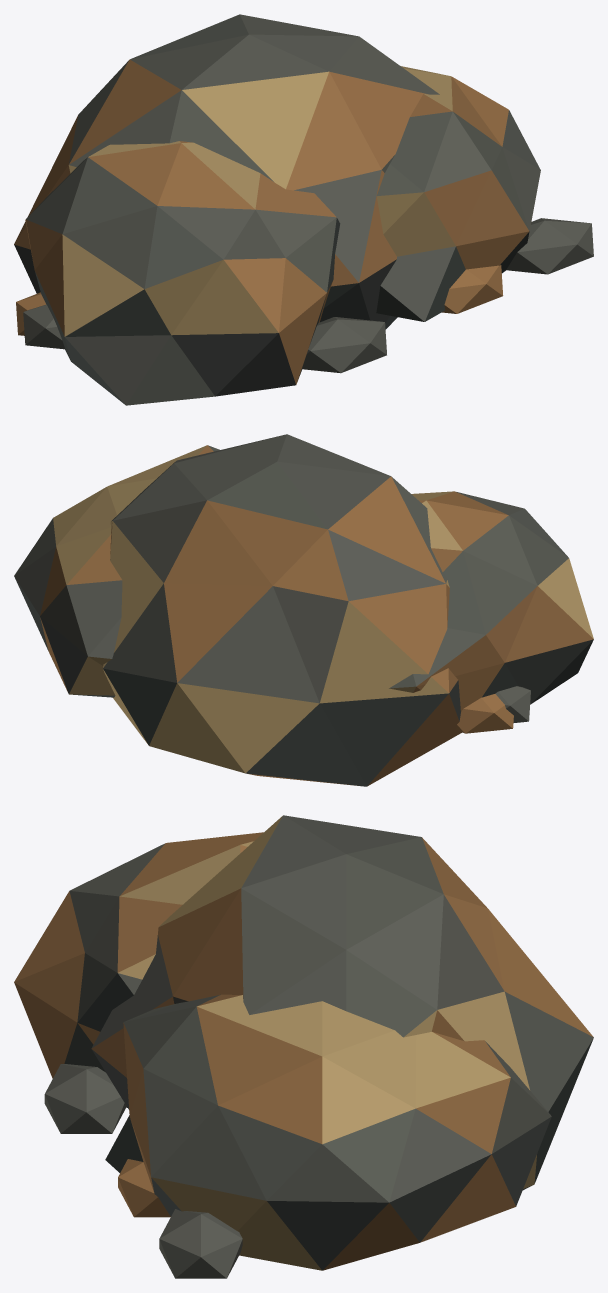
File: ironstone_3.glb
3 renders of one model, top to bottom at view 1: azimuth 30°, elevation 25°; view 2: azimuth 150°, elevation 25°; view 3: azimuth 270°, elevation 25°, orthographic. The views are drawn at different scales.
Visible parts, largest first — view 1: ironstone_3_mesh; view 2: ironstone_3_mesh; view 3: ironstone_3_mesh.
Boxes of the visible parts, box(x1,y1,x2,y2) form: ironstone_3_mesh: box(14, 14, 593, 405); ironstone_3_mesh: box(14, 434, 593, 786); ironstone_3_mesh: box(14, 815, 593, 1278).
Bounding box in the file's own units: 1.86 × 0.9583 × 1.49.
